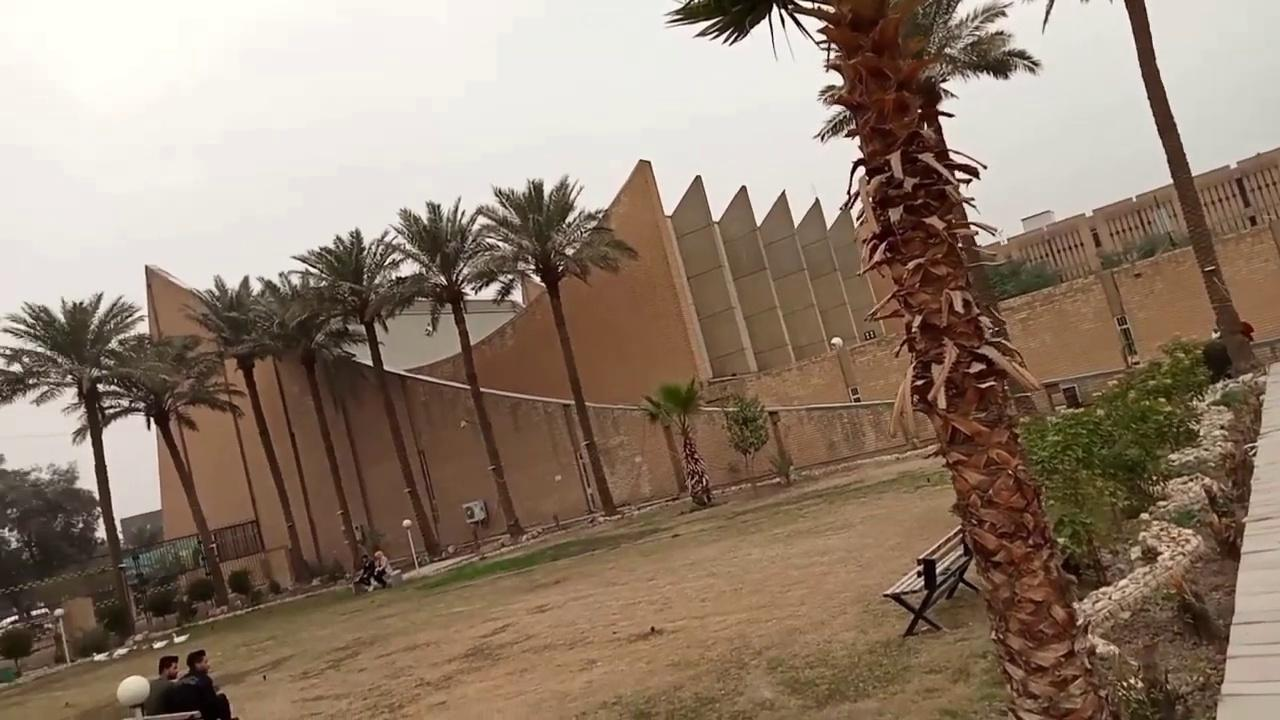person: (142, 654, 220, 719), (176, 648, 231, 719), (351, 553, 374, 593), (371, 549, 392, 589)
tree: (662, 0, 1116, 717), (1025, 0, 1259, 377), (471, 174, 639, 517), (0, 289, 150, 637), (288, 226, 442, 562), (382, 196, 527, 543), (1016, 333, 1213, 588), (181, 273, 317, 586), (104, 330, 245, 609), (248, 270, 371, 577), (0, 459, 101, 580), (637, 375, 719, 507), (719, 389, 770, 497), (0, 624, 33, 677), (226, 566, 253, 608)
